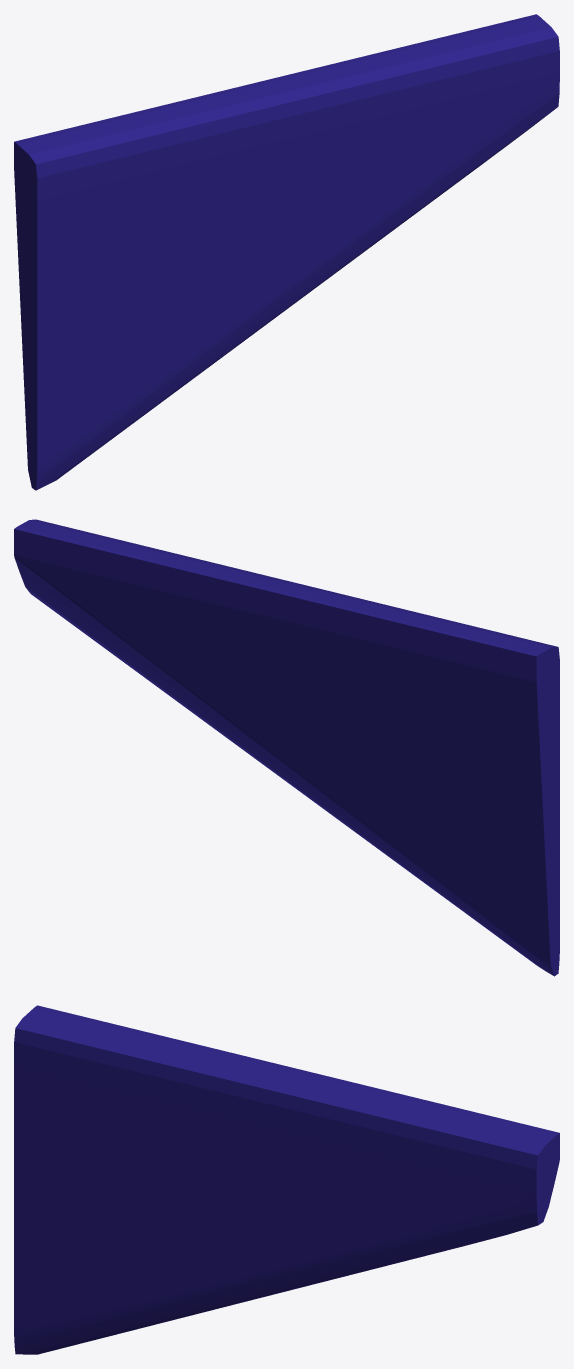
Rendered from left_hip_yaw_link_part_18.obj.
3 views of the same model, one above another, from view 1: azimuth 30°, elevation 25°; view 2: azimuth 150°, elevation 25°; view 3: azimuth 330°, elevation 25° (orthographic).
Size of the model in its own units: 0.0345 by 0.021 by 0.00267.
